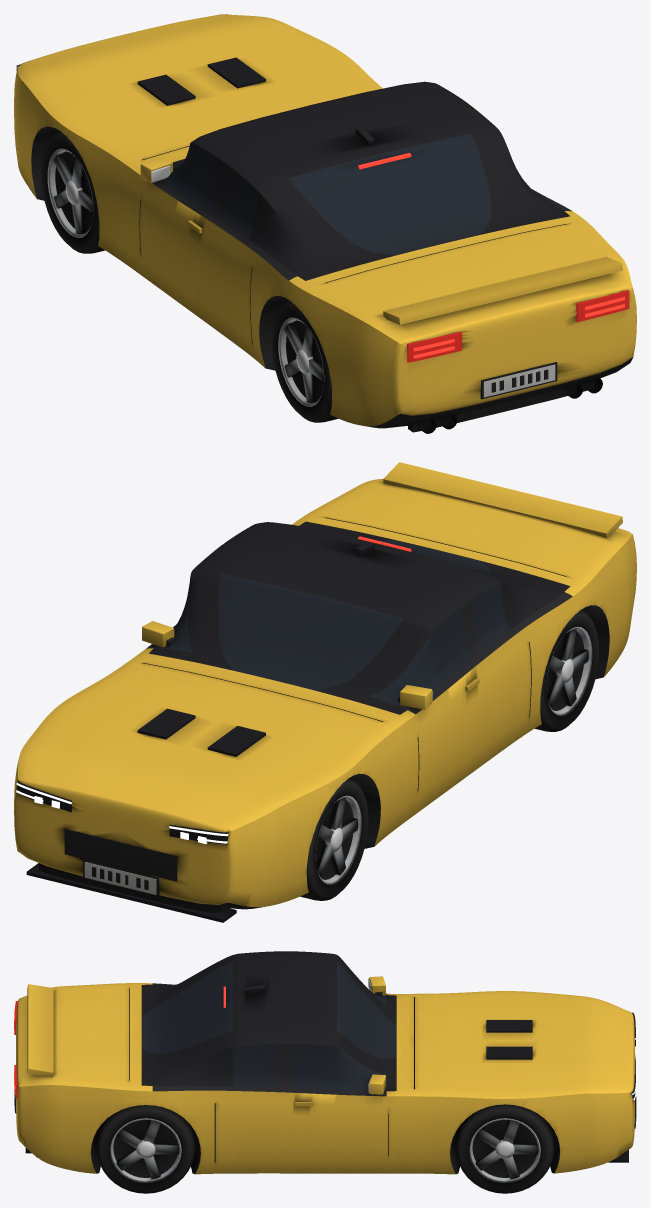
The model's file is brute.glb.
3 views of the same model, one above another, from view 1: azimuth 30°, elevation 25°; view 2: azimuth 150°, elevation 25°; view 3: azimuth 270°, elevation 25° (orthographic). The views are drawn at different scales.
Parts seen in each view (by area): view 1: Body, Details, Wheel_RL, Wheel_FL, Rounded; view 2: Body, Details, Wheel_FL, Wheel_RL, Rounded; view 3: Body, Wheel_FR, Wheel_RR, Details, Rounded.
Part boxes in pixels (<box>): Body: <box>14,14,636,428</box>; Details: <box>16,14,629,432</box>; Wheel_RL: <box>271,300,338,422</box>; Wheel_FL: <box>40,131,104,253</box>; Rounded: <box>140,127,374,183</box>; Body: <box>14,479,636,909</box>; Details: <box>16,462,622,922</box>; Wheel_FL: <box>300,778,368,900</box>; Wheel_RL: <box>535,610,599,731</box>; Rounded: <box>142,541,432,709</box>; Body: <box>16,951,635,1174</box>; Wheel_FR: <box>455,1104,554,1193</box>; Wheel_RR: <box>96,1105,195,1193</box>; Details: <box>14,984,636,1162</box>; Rounded: <box>244,976,385,1094</box>.
Bounding box in the file's own units: 2.03 × 1.37 × 4.86.
